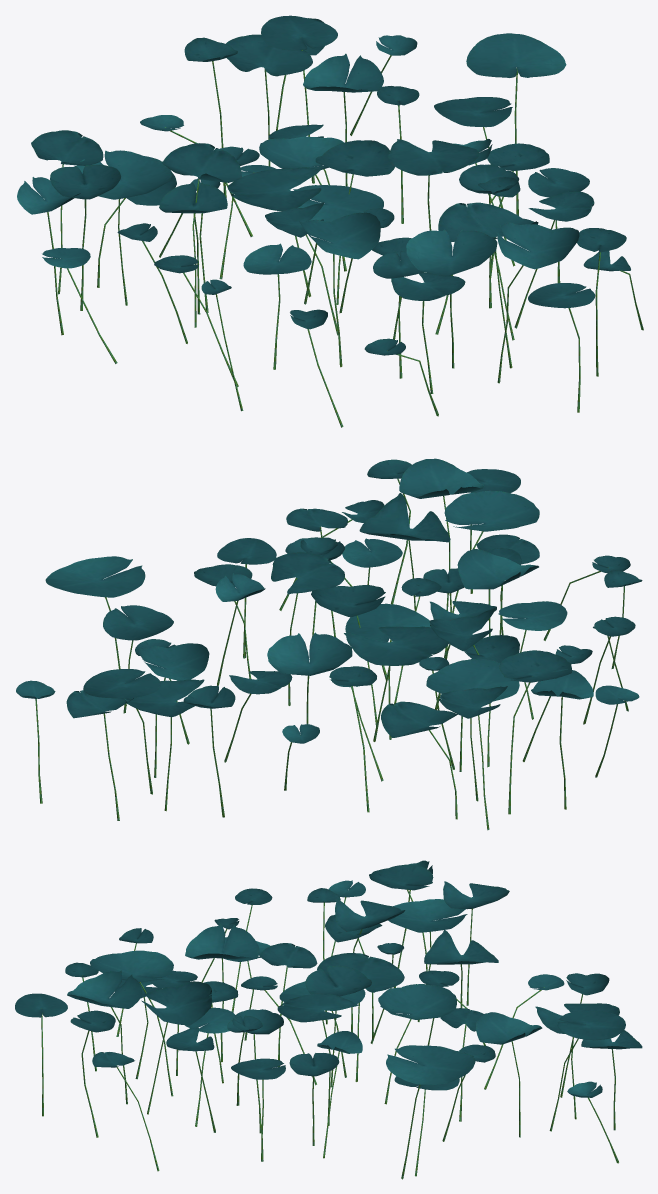
3 renders of one model, top to bottom at view 1: azimuth 30°, elevation 25°; view 2: azimuth 150°, elevation 25°; view 3: azimuth 270°, elevation 25°, orthographic. The views are drawn at different scales.
Visible parts, largest first — view 1: SM_GF_WaterLily_03_LOD0; view 2: SM_GF_WaterLily_03_LOD0; view 3: SM_GF_WaterLily_03_LOD0.
Boxes of the visible parts, box(x1,y1,x2,y2) form: SM_GF_WaterLily_03_LOD0: box(17, 15, 643, 427); SM_GF_WaterLily_03_LOD0: box(16, 458, 642, 830); SM_GF_WaterLily_03_LOD0: box(15, 860, 642, 1179).
Bounding box in the file's own units: 3.96 × 1.08 × 4.51.
Materials: 1 (1 with a texture image).
